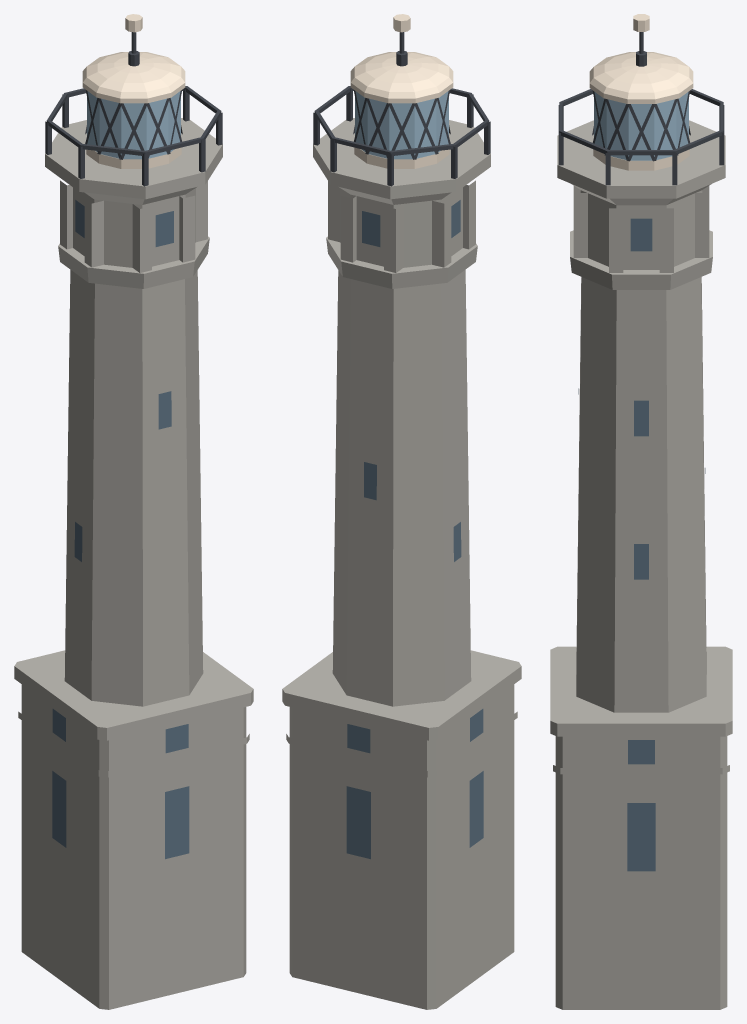
The model's file is sf-alcatraz-lighthouse.glb.
The picture shows the model from 3 angles, left to right: view 1: azimuth 30°, elevation 25°; view 2: azimuth 150°, elevation 25°; view 3: azimuth 270°, elevation 25°; orthographic projection.
Visible parts, largest first — view 1: Alcatraz Island Lighthouse; view 2: Alcatraz Island Lighthouse; view 3: Alcatraz Island Lighthouse.
Part boxes in pixels (x1=…): Alcatraz Island Lighthouse: x1=14, y1=14, x2=253, y2=1009; Alcatraz Island Lighthouse: x1=282, y1=14, x2=521, y2=1009; Alcatraz Island Lighthouse: x1=550, y1=14, x2=732, y2=1009.
Bounding box in the file's own units: 5.1 × 29.5 × 5.1.
